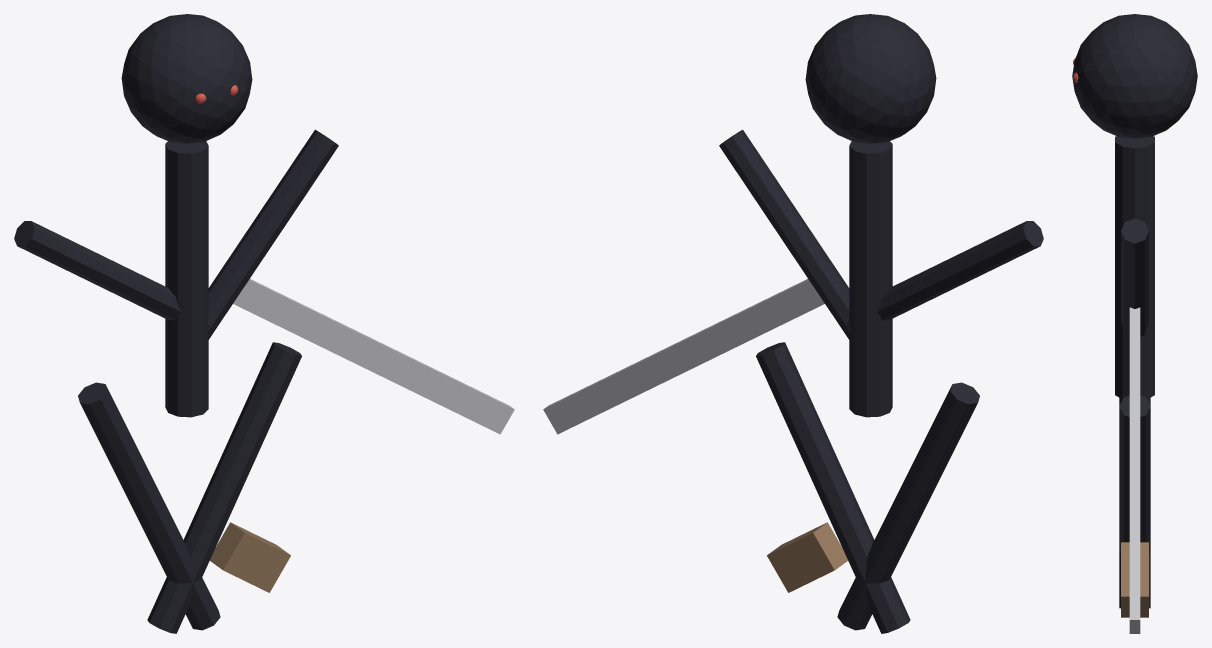
The model's file is enemy_stick_black_elite.glb.
3 renders of one model, left to right at view 1: azimuth 30°, elevation 25°; view 2: azimuth 150°, elevation 25°; view 3: azimuth 270°, elevation 25°, orthographic. The views are drawn at different scales.
Parts seen in each view (by area): view 1: head, torso, leg_r, blade, leg_l, arm_r, arm_l, hilt; view 2: head, torso, leg_r, blade, leg_l, arm_r, arm_l, hilt; view 3: head, torso, blade, leg_r, arm_r, hilt, leg_l.
Boxes of the visible parts, bbox=[...] form: head: bbox=[121, 14, 252, 143]; torso: bbox=[165, 141, 208, 417]; leg_r: bbox=[147, 342, 301, 633]; blade: bbox=[233, 279, 514, 434]; leg_l: bbox=[78, 382, 220, 630]; arm_r: bbox=[207, 129, 338, 339]; arm_l: bbox=[14, 221, 212, 327]; hilt: bbox=[210, 522, 290, 592]; head: bbox=[805, 14, 936, 143]; torso: bbox=[849, 141, 892, 417]; leg_r: bbox=[756, 342, 910, 633]; blade: bbox=[543, 279, 824, 434]; leg_l: bbox=[837, 382, 979, 630]; arm_r: bbox=[719, 129, 850, 339]; arm_l: bbox=[845, 221, 1043, 327]; hilt: bbox=[767, 522, 847, 592]; head: bbox=[1072, 14, 1197, 138]; torso: bbox=[1115, 136, 1154, 399]; blade: bbox=[1129, 307, 1140, 633]; leg_r: bbox=[1119, 395, 1150, 553]; arm_r: bbox=[1121, 218, 1148, 336]; hilt: bbox=[1121, 542, 1148, 617]; leg_l: bbox=[1119, 398, 1150, 608].
Size of the model in its own units: 1.73 by 2.04 by 0.396.
